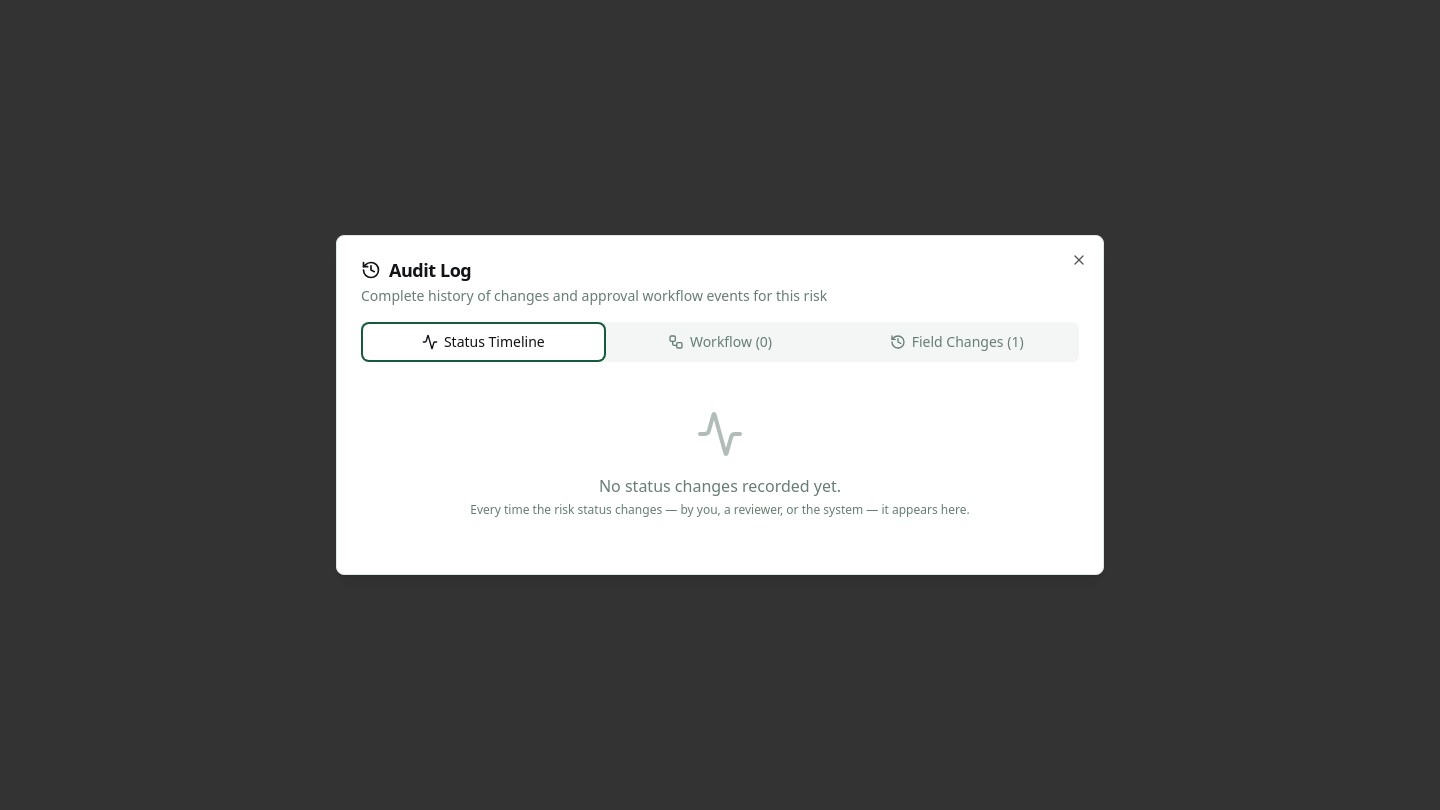
AuditLogDialog › shows a diff table of only user-meaningful before/after fields
Click the tab "Field Changes (1)" at (957, 342), box [838,326,1075,358]
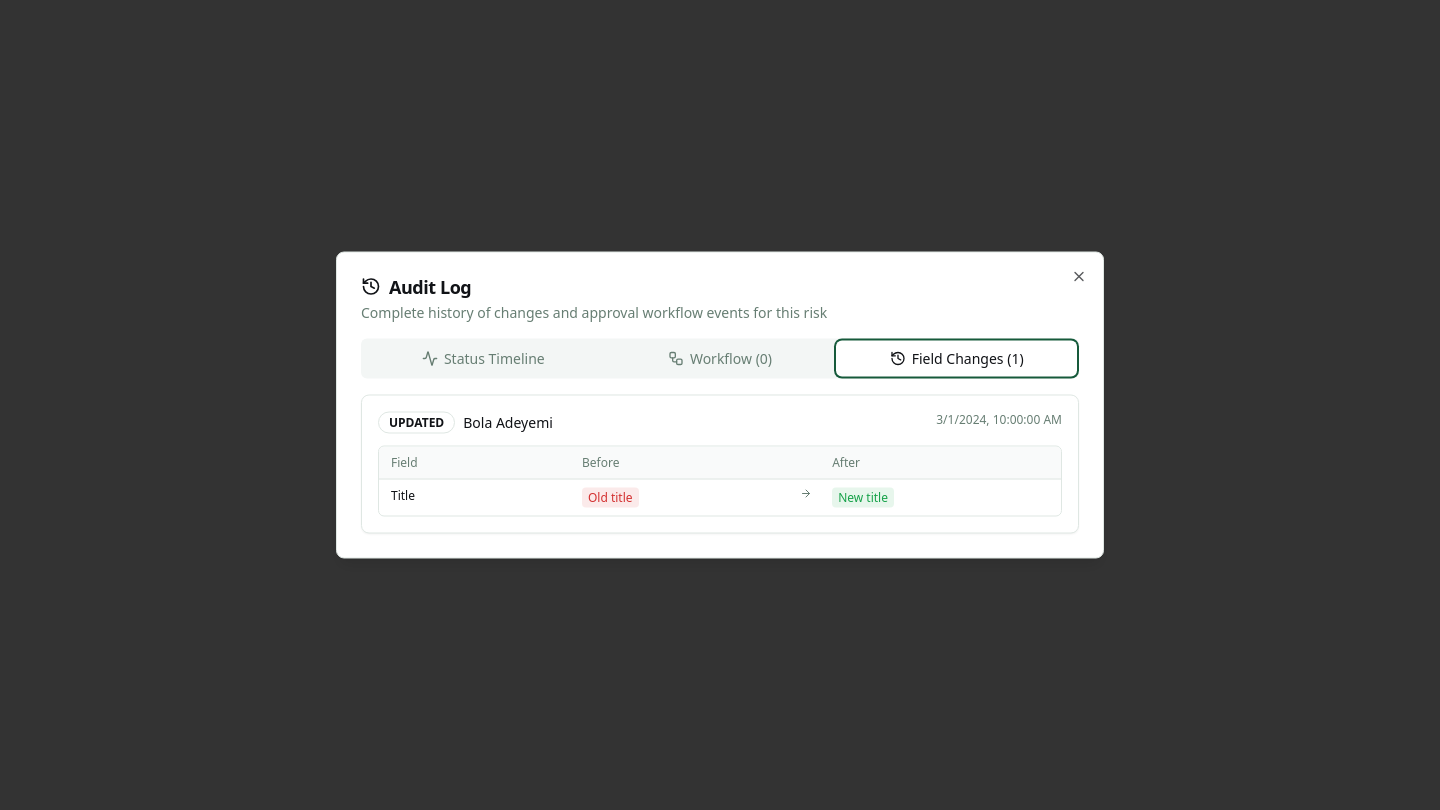
Now the text "UPDATED" is shown, box [378,412,455,434]
Now the text "Title" is shown, box [379,479,570,516]
Now the text "Old title" is shown, box [582,488,639,508]
